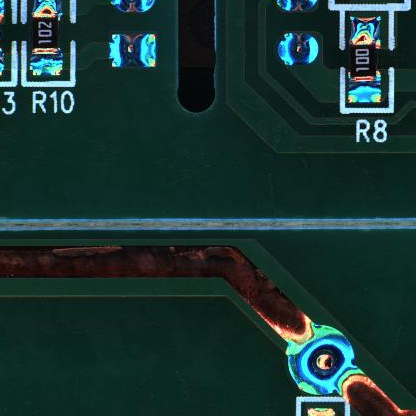spot: (283, 322, 358, 395), (108, 31, 159, 70), (279, 31, 319, 67)
